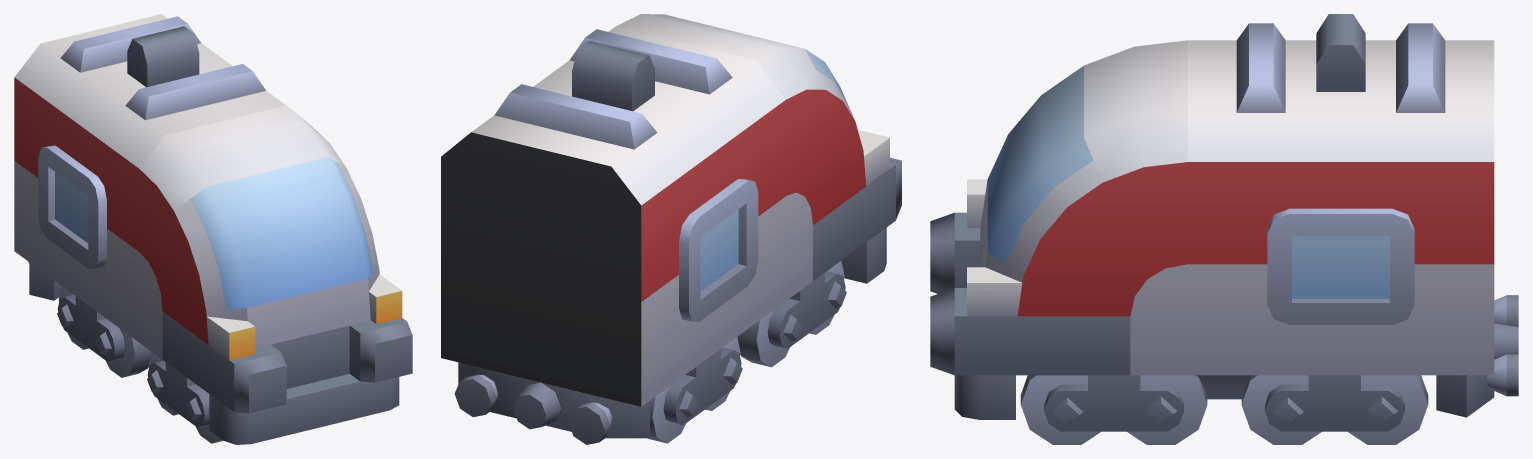
The model's file is k-train-train-electric-city-a.glb.
3 renders of one model, left to right at view 1: azimuth 30°, elevation 25°; view 2: azimuth 150°, elevation 25°; view 3: azimuth 270°, elevation 25°, orthographic. The views are drawn at different scales.
Parts seen in each view (by area): view 1: train-electric-city-a, wheels-back, wheels-front; view 2: train-electric-city-a, wheels-front, wheels-back; view 3: train-electric-city-a, wheels-front, wheels-back.
Part boxes in pixels (bbox=[...]): train-electric-city-a: bbox=[14, 14, 412, 444]; wheels-back: bbox=[57, 286, 150, 377]; wheels-front: bbox=[147, 352, 223, 443]; train-electric-city-a: bbox=[441, 14, 901, 444]; wheels-front: bbox=[737, 261, 846, 367]; wheels-back: bbox=[647, 337, 742, 443]; train-electric-city-a: bbox=[930, 14, 1518, 419]; wheels-front: bbox=[1020, 375, 1207, 444]; wheels-back: bbox=[1241, 375, 1428, 444].
Size of the model in its own units: 1.1 by 1.68 by 2.4.
Materials: 1 (1 with a texture image).
